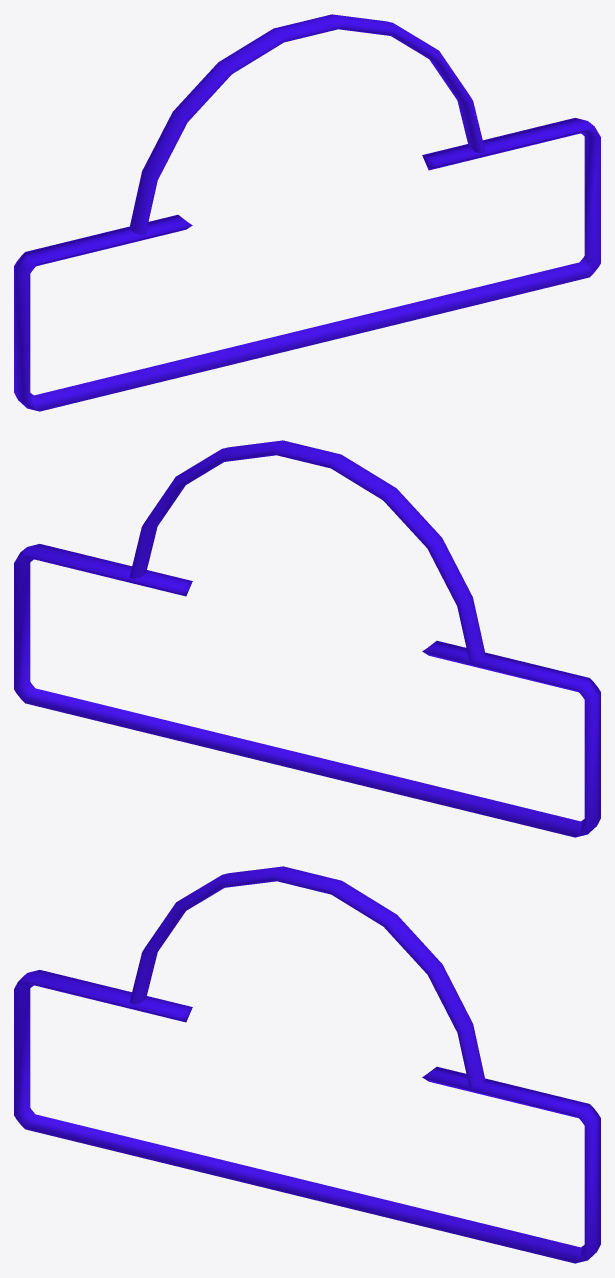
The model's file is Neon_Hanging_Sign.glb.
The picture shows the model from 3 angles, top to bottom: view 1: azimuth 30°, elevation 25°; view 2: azimuth 150°, elevation 25°; view 3: azimuth 330°, elevation 25°; orthographic projection.
Visible parts, largest first — view 1: hangingSign; view 2: hangingSign; view 3: hangingSign.
Part boxes in pixels (box(x1,y1,x2,y2)): hangingSign: box(14, 14, 600, 411); hangingSign: box(14, 440, 600, 837); hangingSign: box(14, 866, 600, 1263).
Size of the model in its own units: 0.9979 by 0.5225 by 0.0439.
Materials: 1 (1 with a texture image).
